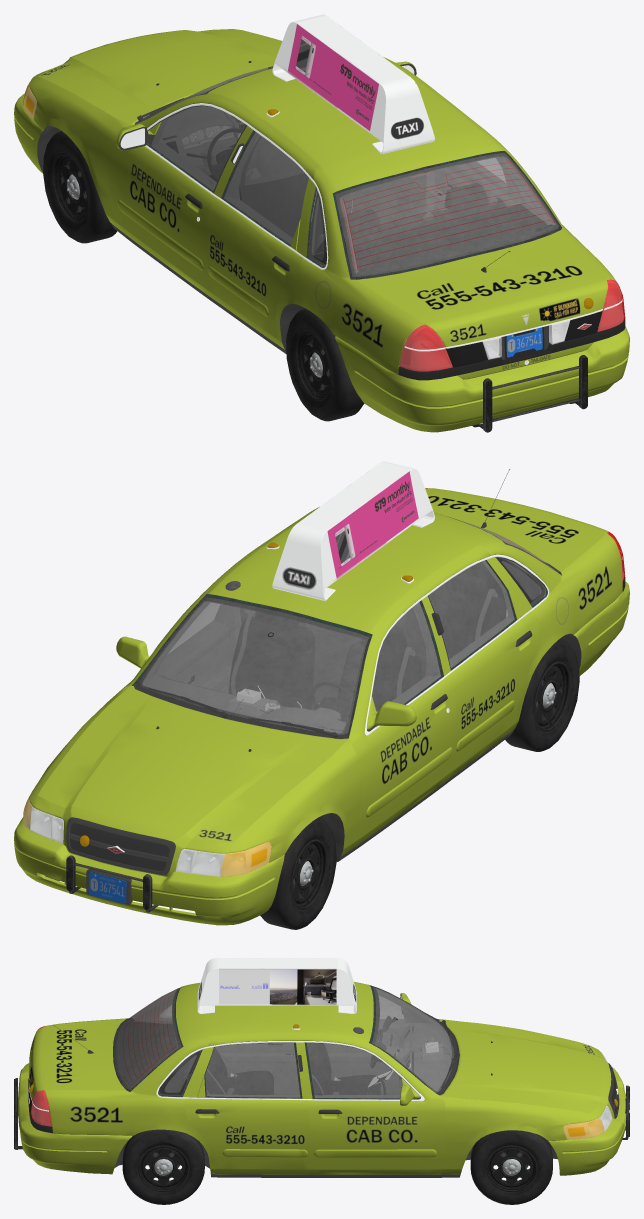
Rendered from taxi_d4c035.glb.
3 renders of one model, top to bottom at view 1: azimuth 30°, elevation 25°; view 2: azimuth 150°, elevation 25°; view 3: azimuth 270°, elevation 25°, orthographic. The views are drawn at different scales.
Visible parts, largest first — view 1: body, wheel_rl, wheel_fl; view 2: body, wheel_fl, wheel_rl; view 3: body, wheel_rr, wheel_fr.
Part boxes in pixels (left/top/right/bottom): body: left=14, top=14, right=629, bottom=432; wheel_rl: left=286, top=308, right=364, bottom=421; wheel_fl: left=43, top=131, right=117, bottom=243; body: left=14, top=461, right=629, bottom=925; wheel_fl: left=260, top=817, right=336, bottom=929; wheel_rl: left=505, top=639, right=579, bottom=751; body: left=14, top=958, right=629, bottom=1177; wheel_rr: left=122, top=1129, right=204, bottom=1204; wheel_fr: left=470, top=1130, right=552, bottom=1204.
Size of the model in its own units: 2.15 by 1.94 by 5.38.
Materials: 6 (6 with a texture image).
